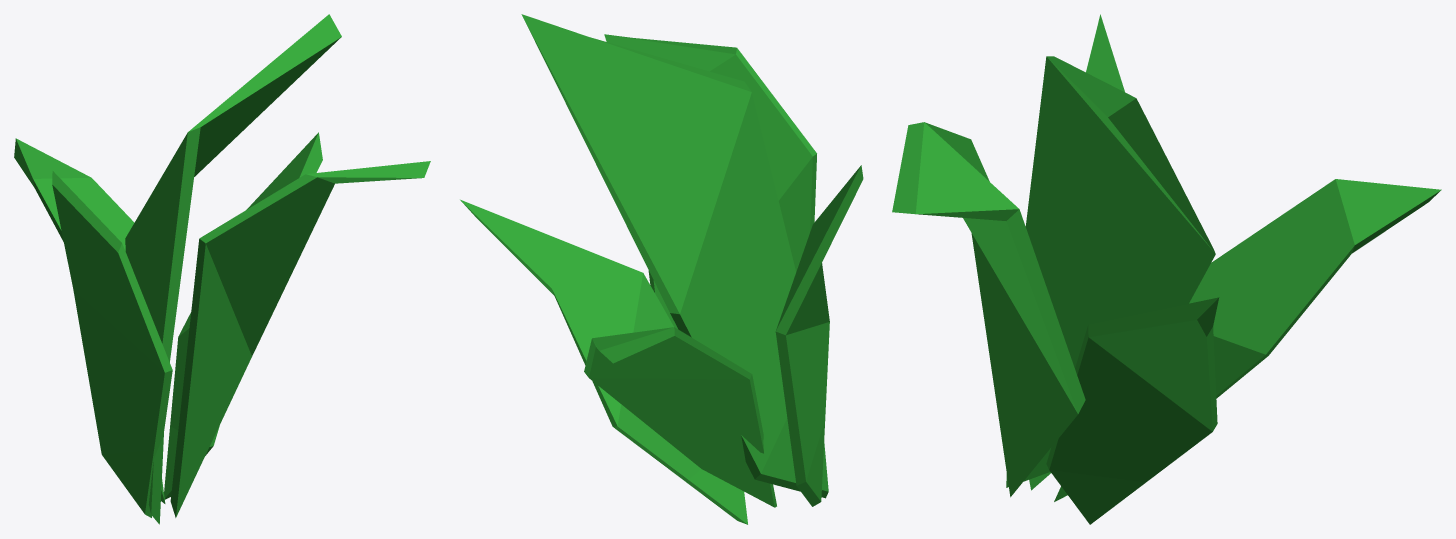
The model's file is Grass_Vege.glb.
3 renders of one model, left to right at view 1: azimuth 30°, elevation 25°; view 2: azimuth 150°, elevation 25°; view 3: azimuth 270°, elevation 25°, orthographic. The views are drawn at different scales.
Parts seen in each view (by area): view 1: Grass_Vege; view 2: Grass_Vege; view 3: Grass_Vege.
Boxes of the visible parts, left/top/right/bottom form: Grass_Vege: left=14, top=14, right=430, bottom=524; Grass_Vege: left=460, top=14, right=863, bottom=524; Grass_Vege: left=892, top=14, right=1441, bottom=524.
Bounding box in the file's own units: 0.9473 × 1.23 × 1.14.
Materials: 1 (1 with a texture image).
